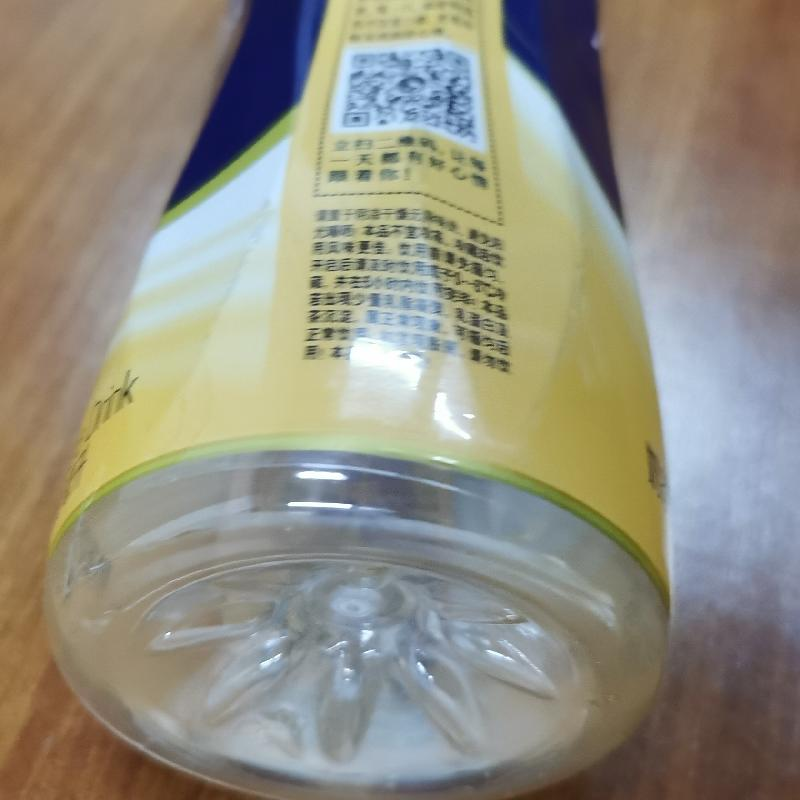bottles: (44, 7, 673, 799)
